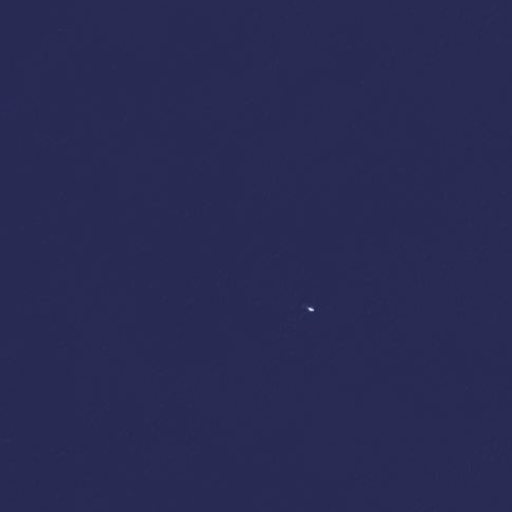ship: (303, 303, 316, 314)
